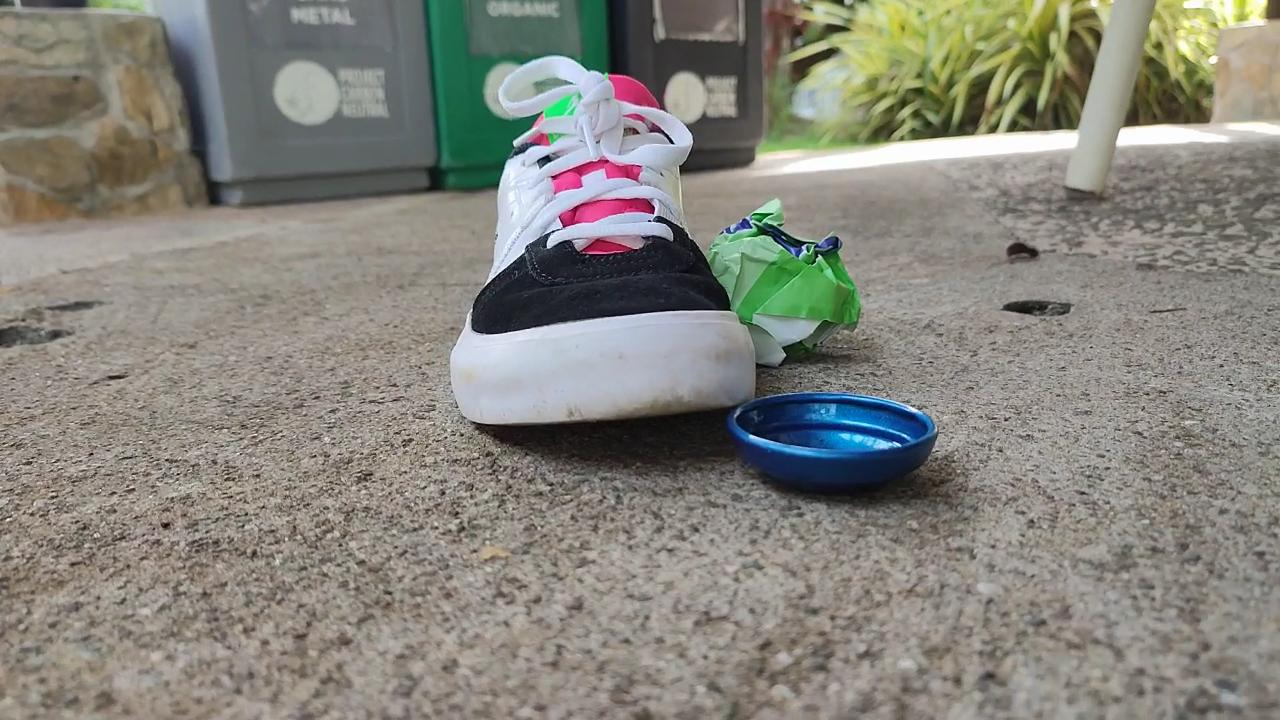Paper: (701, 181, 868, 365)
